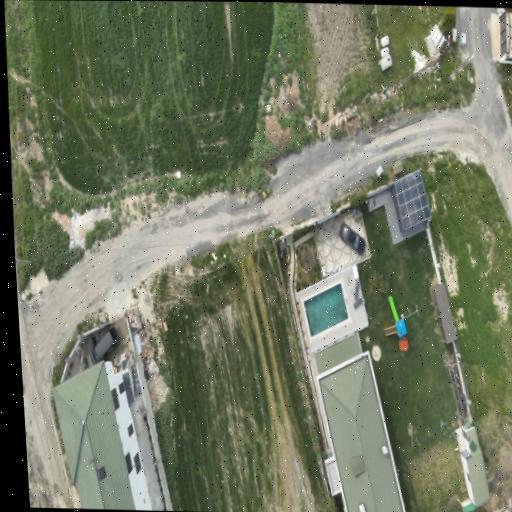car: (91, 328, 116, 365), (340, 222, 365, 254)
